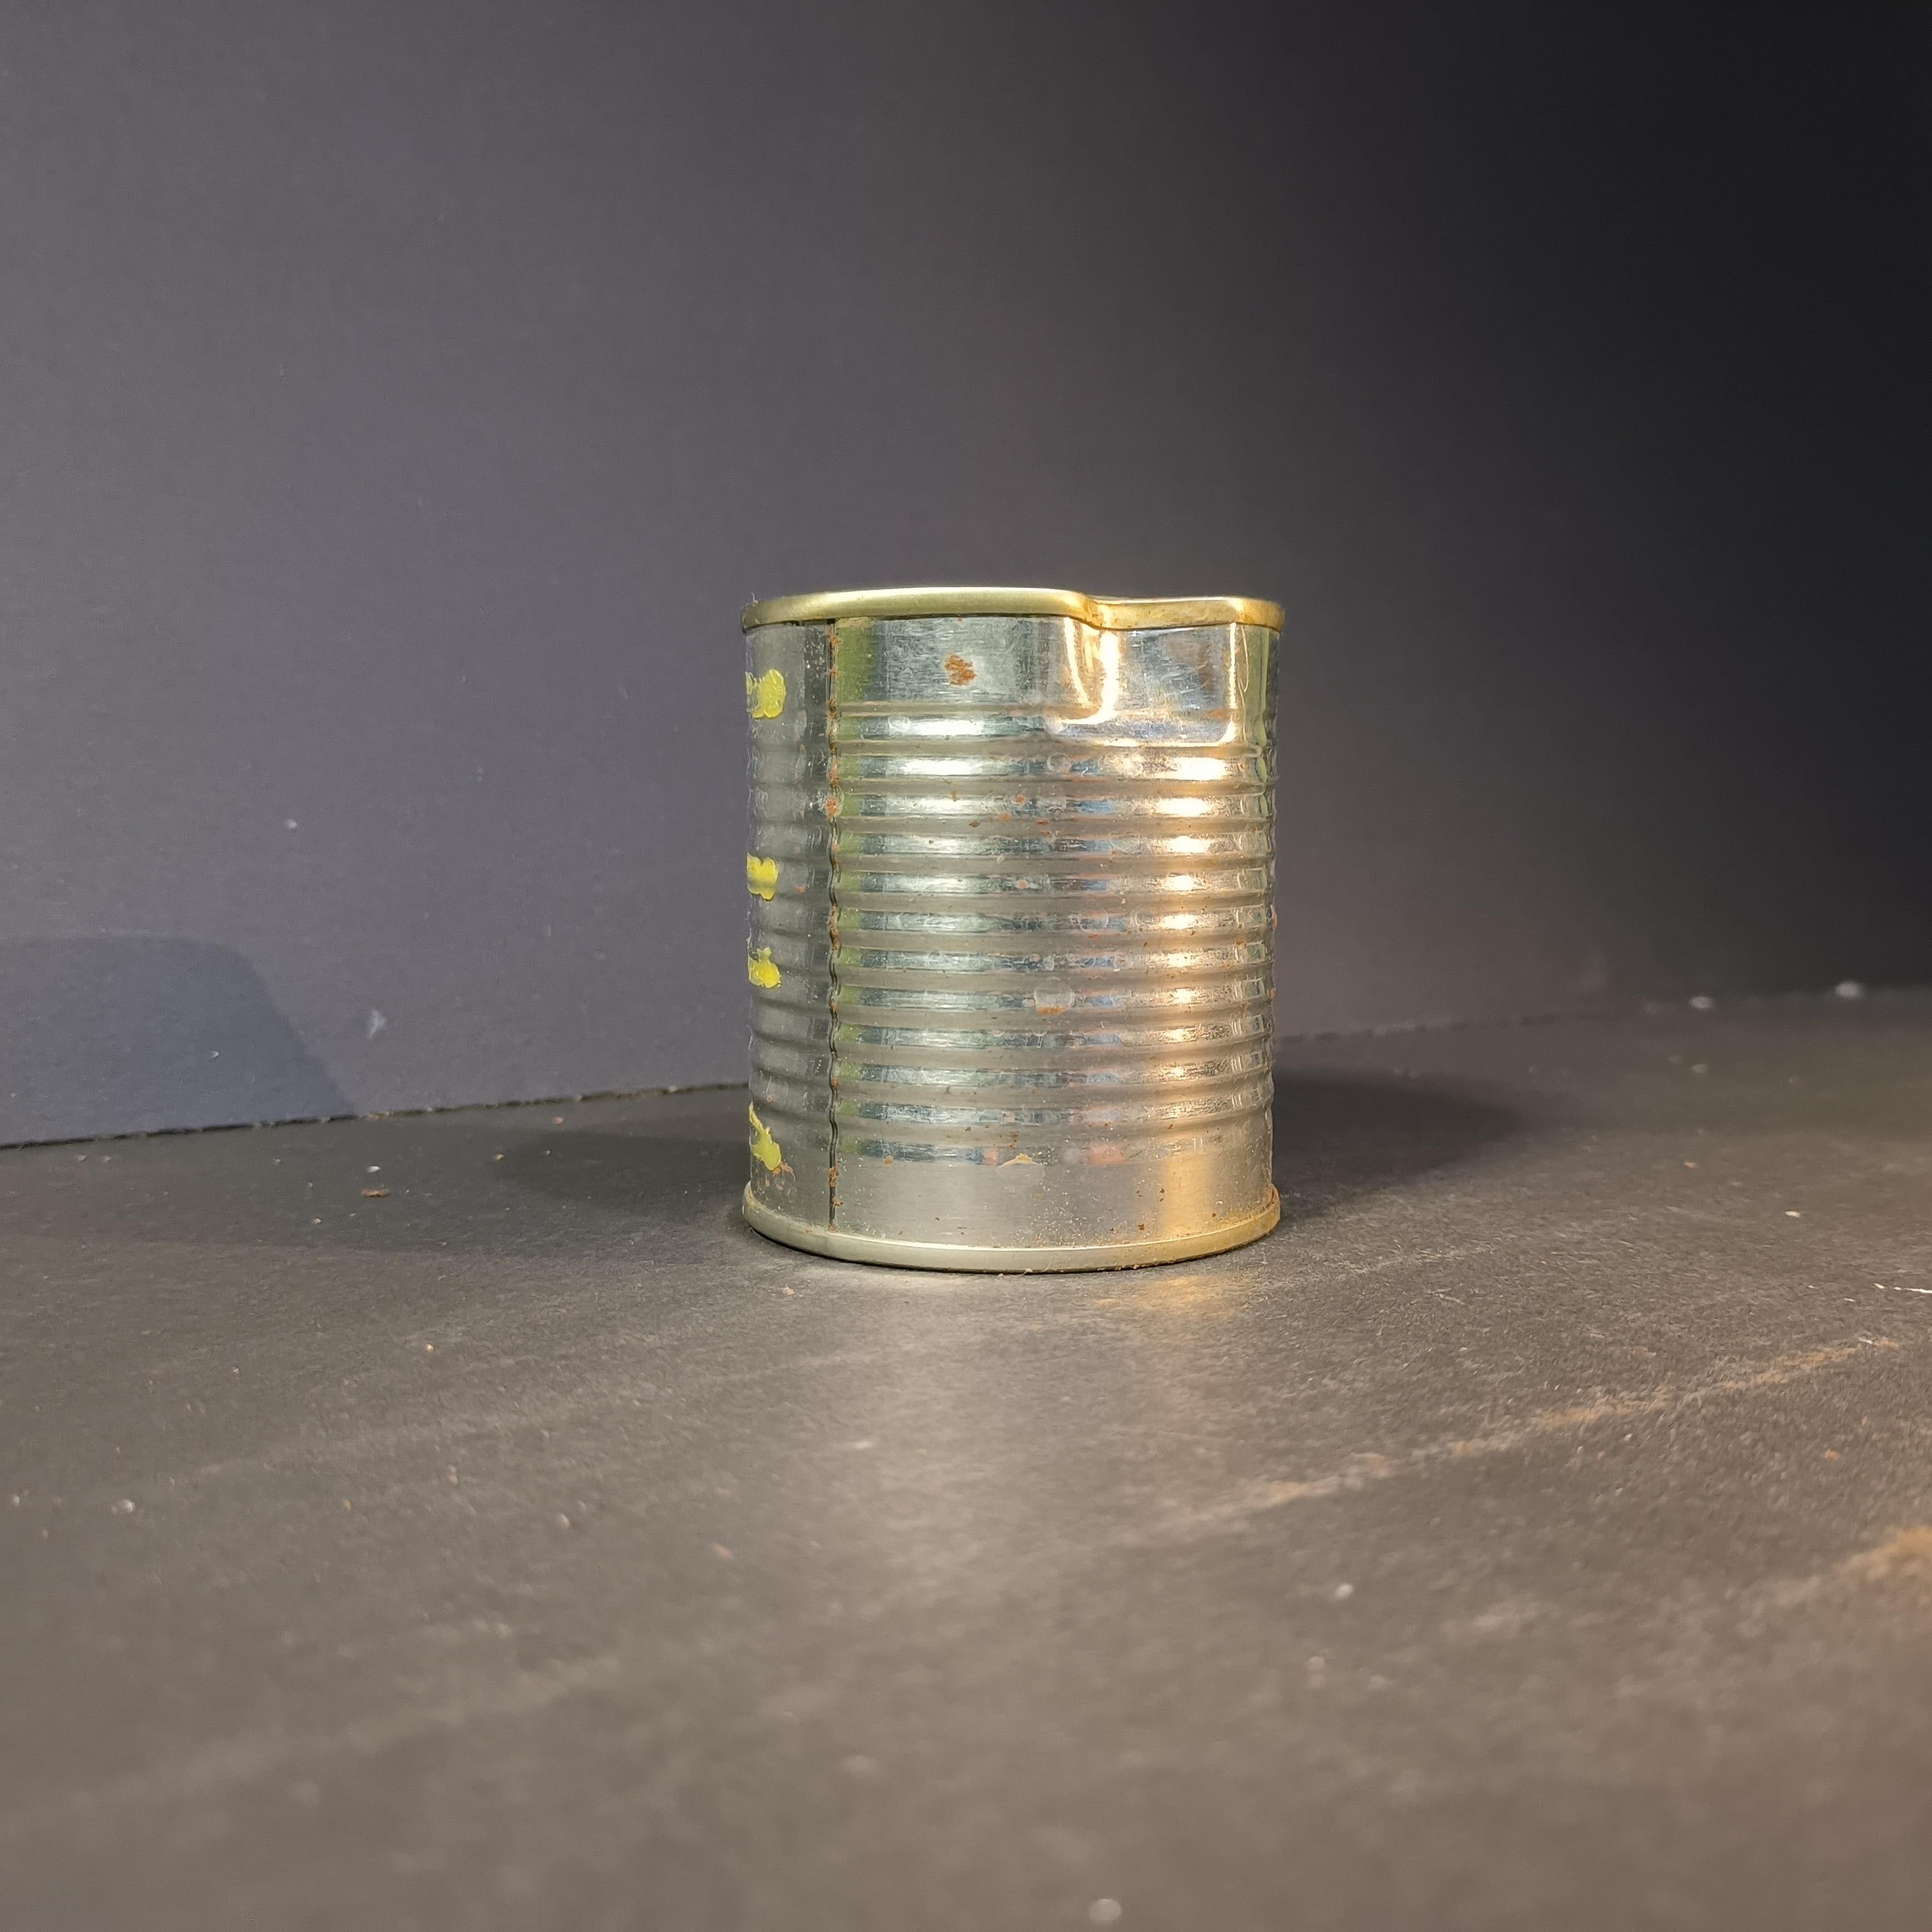Dented: (695, 548, 1306, 1293)
